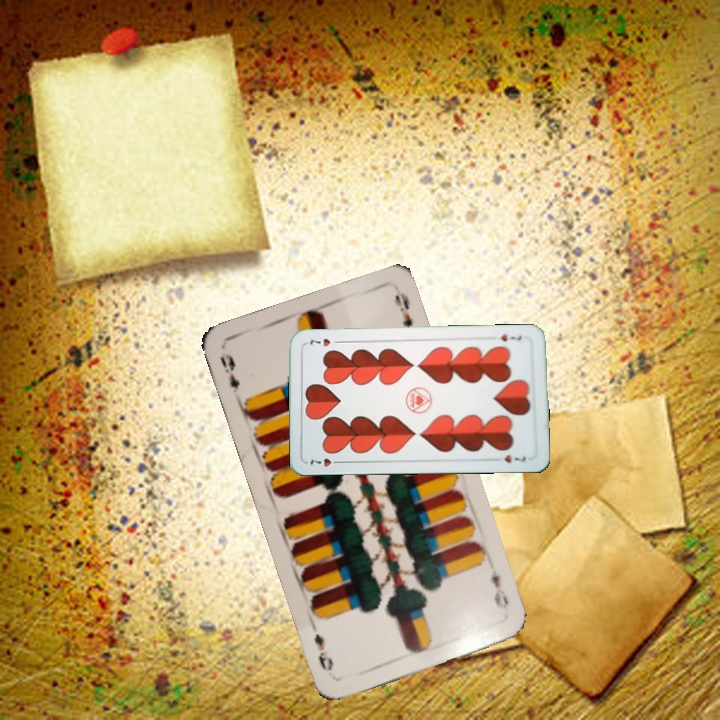E9: (216, 348, 243, 396), (486, 566, 511, 611)
H7: (306, 454, 345, 469), (497, 330, 524, 344)
